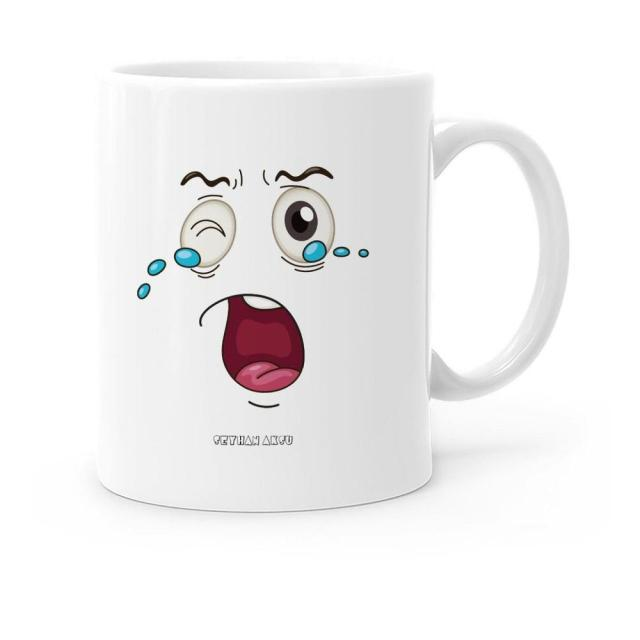Coffee Mug: (101, 57, 574, 516)
